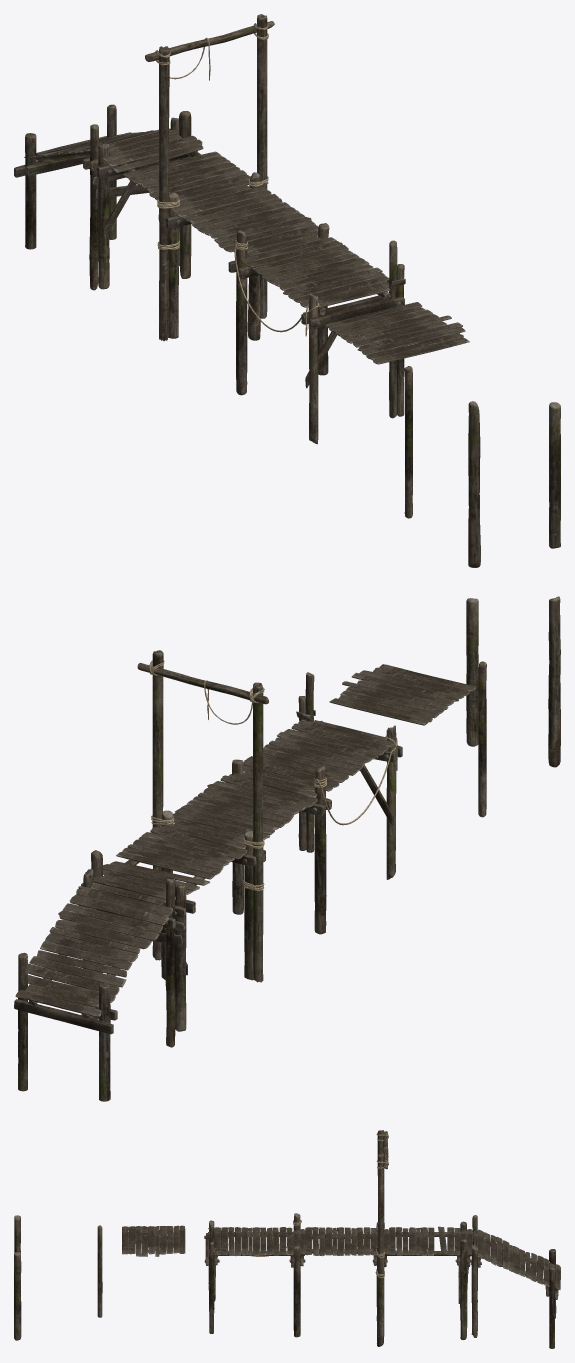
The model's file is modular_wooden_pier.glb.
The picture shows the model from 3 angles, top to bottom: view 1: azimuth 30°, elevation 25°; view 2: azimuth 150°, elevation 25°; view 3: azimuth 270°, elevation 25°; orthographic projection. The views are drawn at different scales.
Visible parts, largest first — view 1: modular_wooden_pier_planks, modular_wooden_pier_section_01, modular_wooden_pier_poles; view 2: modular_wooden_pier_planks, modular_wooden_pier_section_01, modular_wooden_pier_poles; view 3: modular_wooden_pier_planks, modular_wooden_pier_section_01, modular_wooden_pier_poles.
Boxes of the visible parts, x1,y1,x2,y2 form: modular_wooden_pier_planks: [14, 23, 469, 388]; modular_wooden_pier_section_01: [25, 14, 404, 444]; modular_wooden_pier_poles: [404, 366, 560, 567]; modular_wooden_pier_planks: [14, 660, 476, 1034]; modular_wooden_pier_section_01: [18, 650, 396, 1101]; modular_wooden_pier_poles: [466, 596, 560, 817]; modular_wooden_pier_planks: [122, 1132, 560, 1303]; modular_wooden_pier_section_01: [204, 1130, 558, 1348]; modular_wooden_pier_poles: [14, 1215, 102, 1340].
Size of the model in its own units: 3.1 by 7.52 by 19.03.
Materials: 2 (2 with a texture image).
